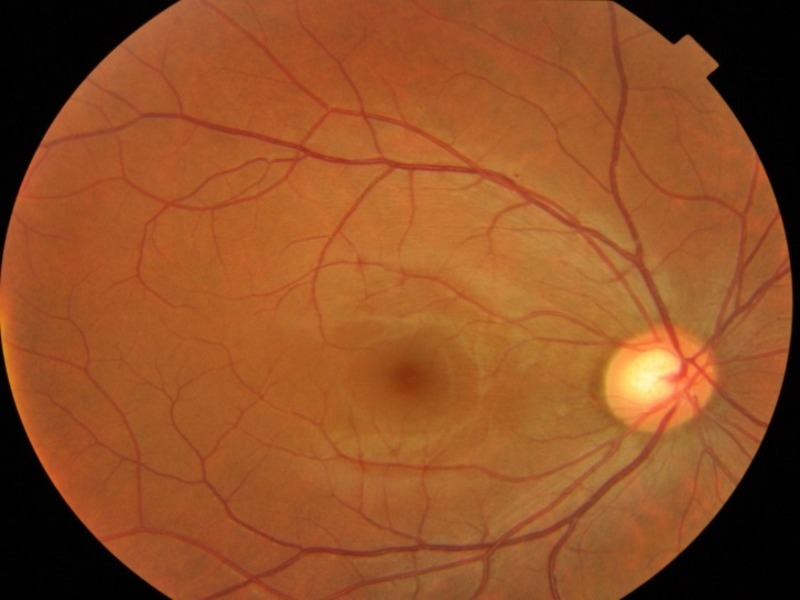Optic Cup: (627, 350, 669, 400)
Optic Disc: (603, 329, 716, 432)
